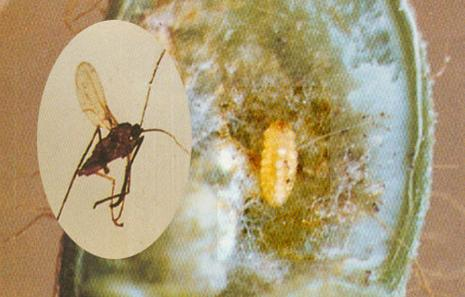Cecidomyiidae: (46, 46, 178, 235)
